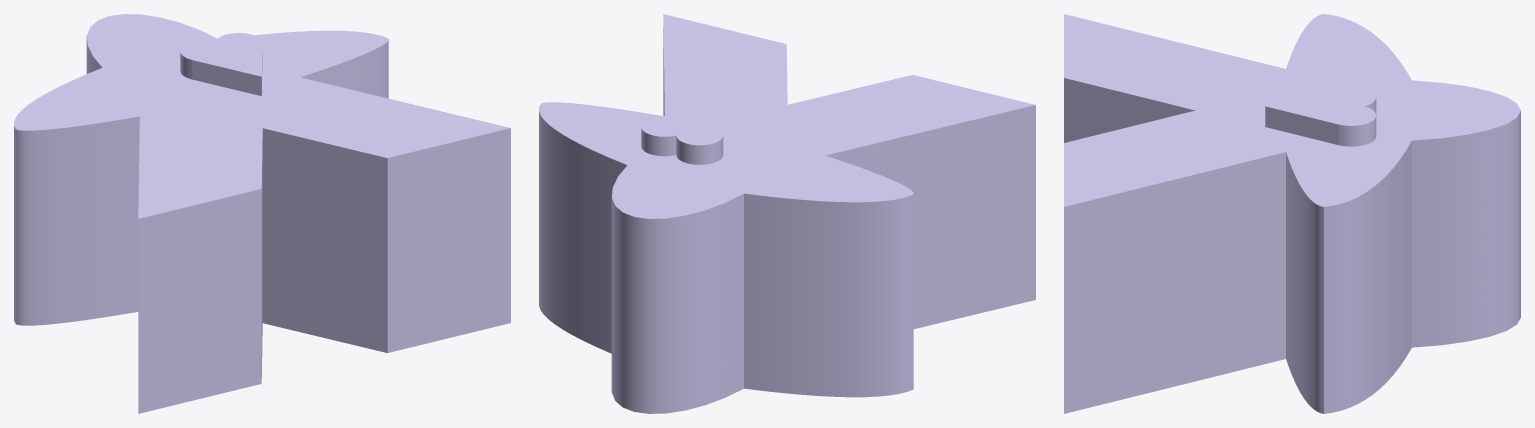
File: meepleImported.fbx
3 renders of one model, left to right at view 1: azimuth 30°, elevation 25°; view 2: azimuth 150°, elevation 25°; view 3: azimuth 270°, elevation 25°, orthographic. The views are drawn at different scales.
Parts seen in each view (by area): view 1: group_0.001, group_0; view 2: group_0.001, group_0; view 3: group_0.001, group_0.
Part boxes in pixels (x1,y1,x2,y2): group_0.001: (14,14,510,413); group_0: (180,33,262,95); group_0.001: (539,14,1035,413); group_0: (641,101,723,164); group_0.001: (1064,14,1520,413); group_0: (1265,86,1376,146).
Size of the model in its own units: 1.6 by 0.88 by 1.6.
